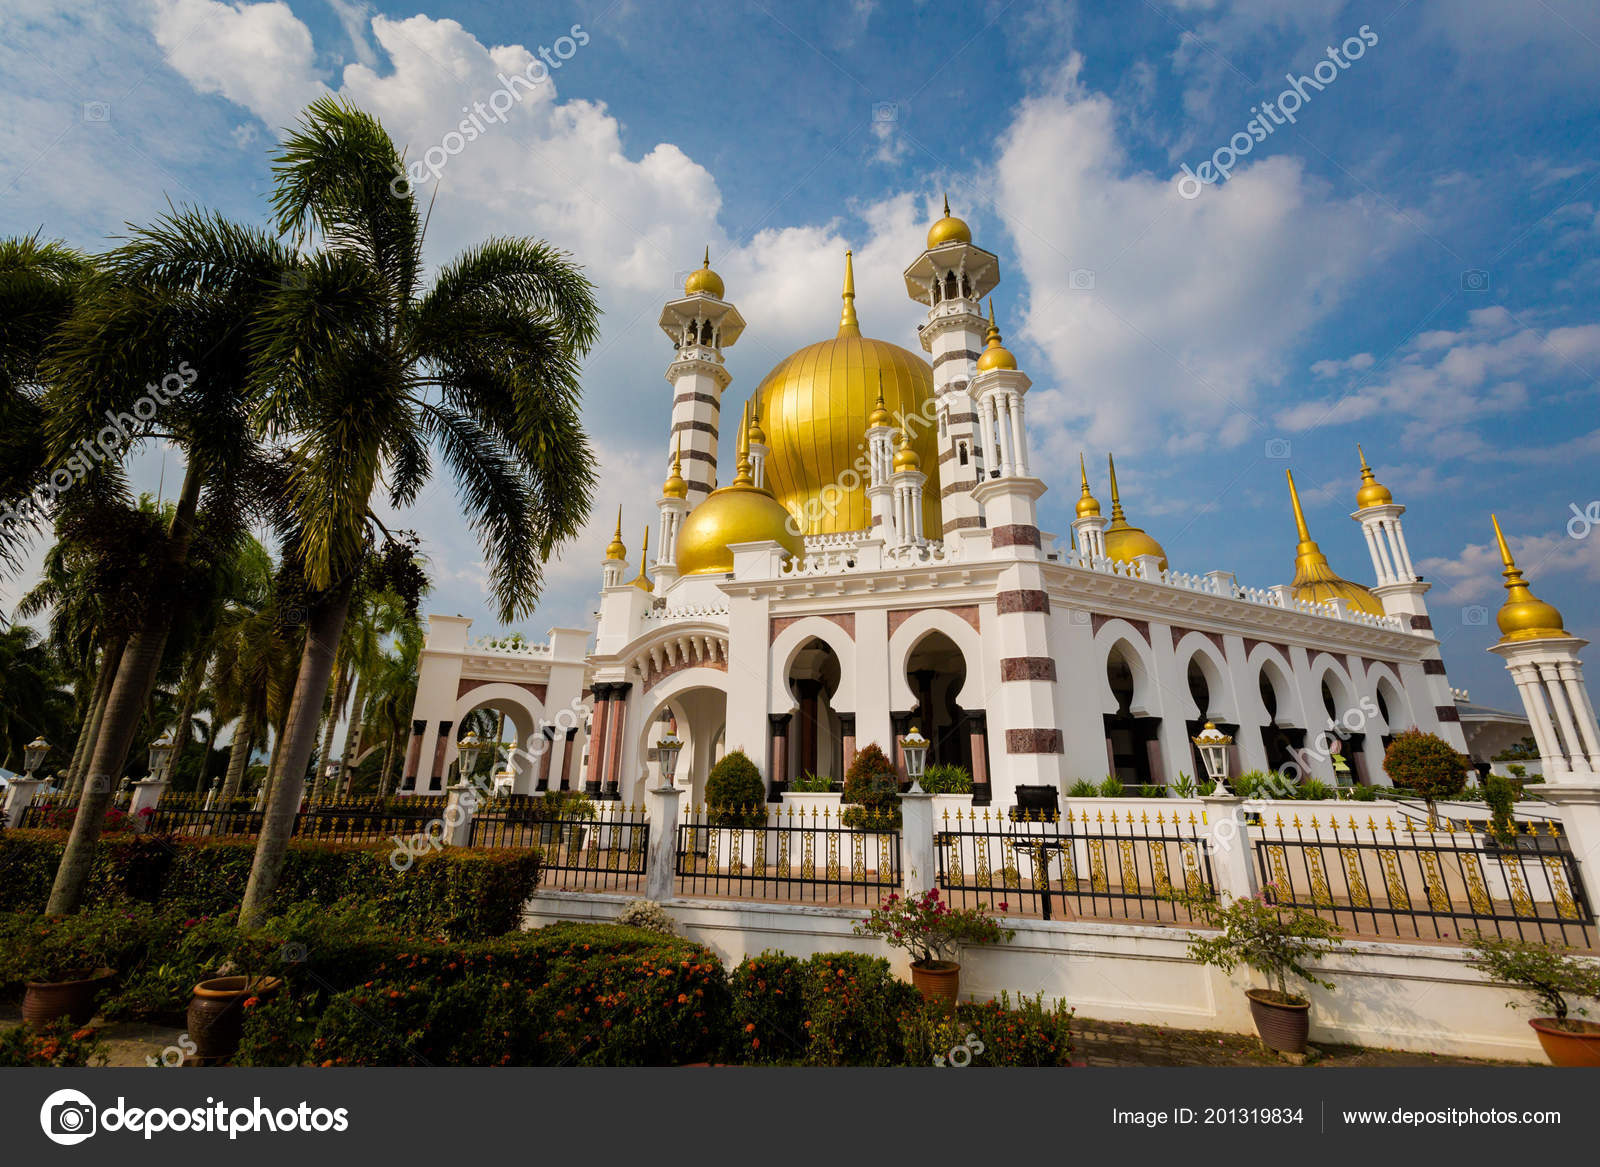Mosque: (448, 203, 1511, 936)
